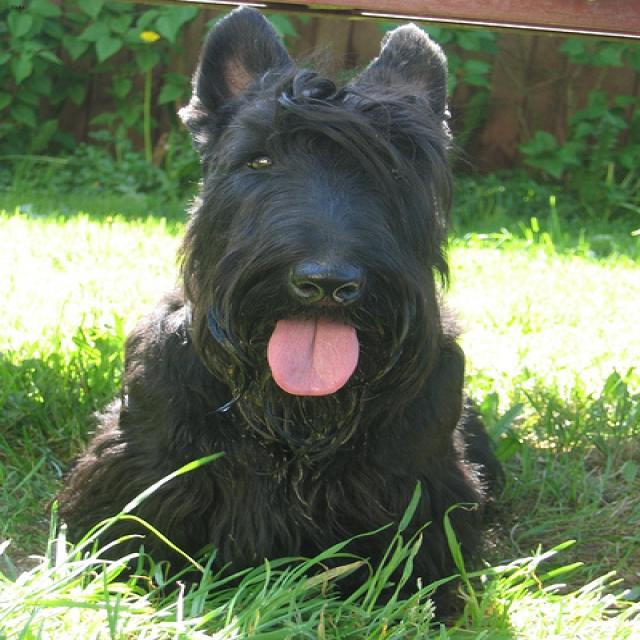dog-scottish_terrier: (32, 1, 525, 637)
